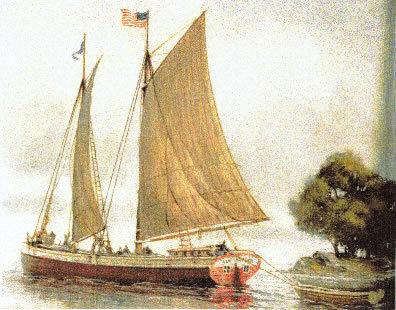Ship: (21, 11, 265, 289)
